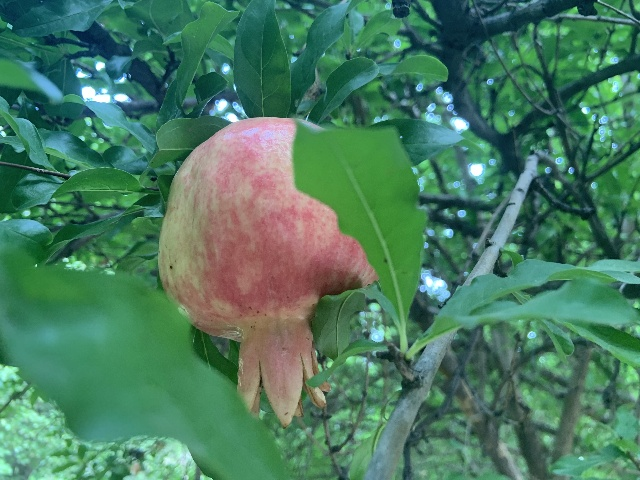ripe: (157, 117, 378, 427)
